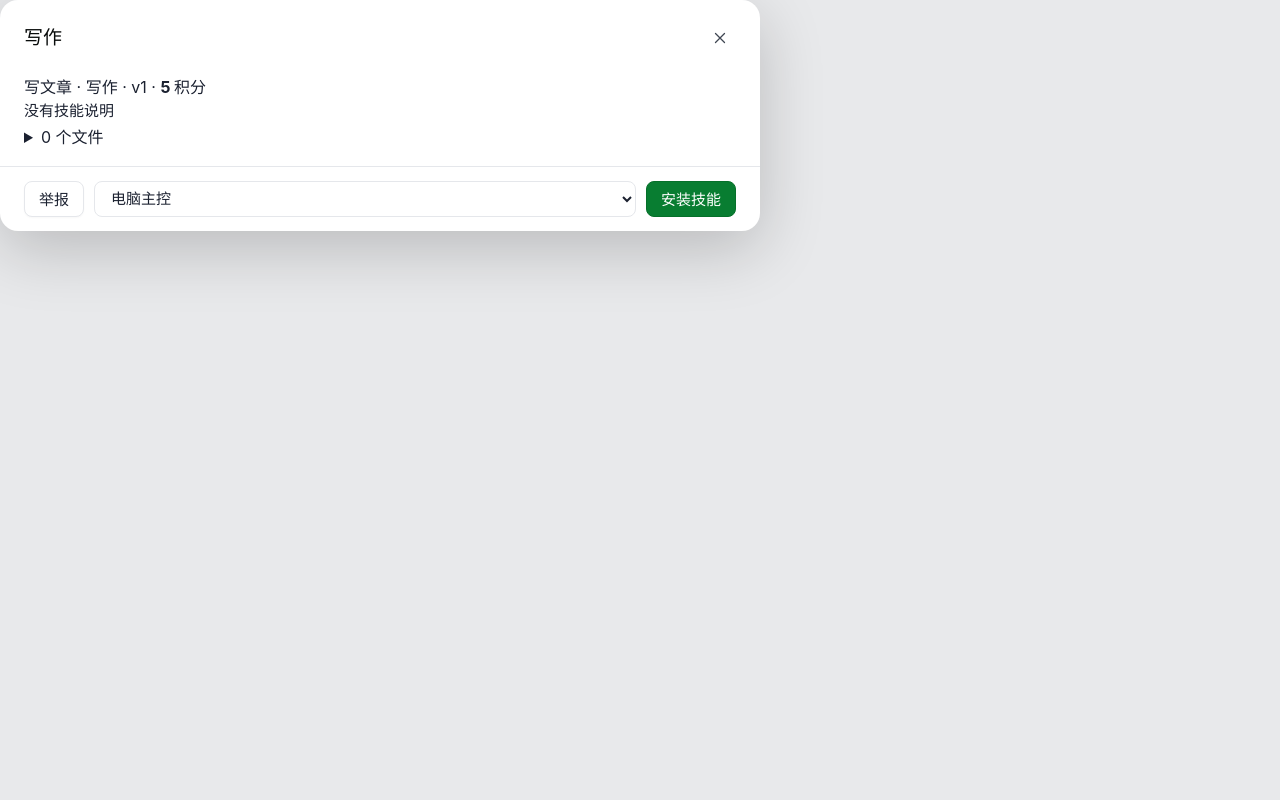
ST08 after the account switched the install dialog shows no charge toast and never installs
The image size is (1280, 800).
Click the button "安装技能" at (691, 198), box [646,180,736,216]
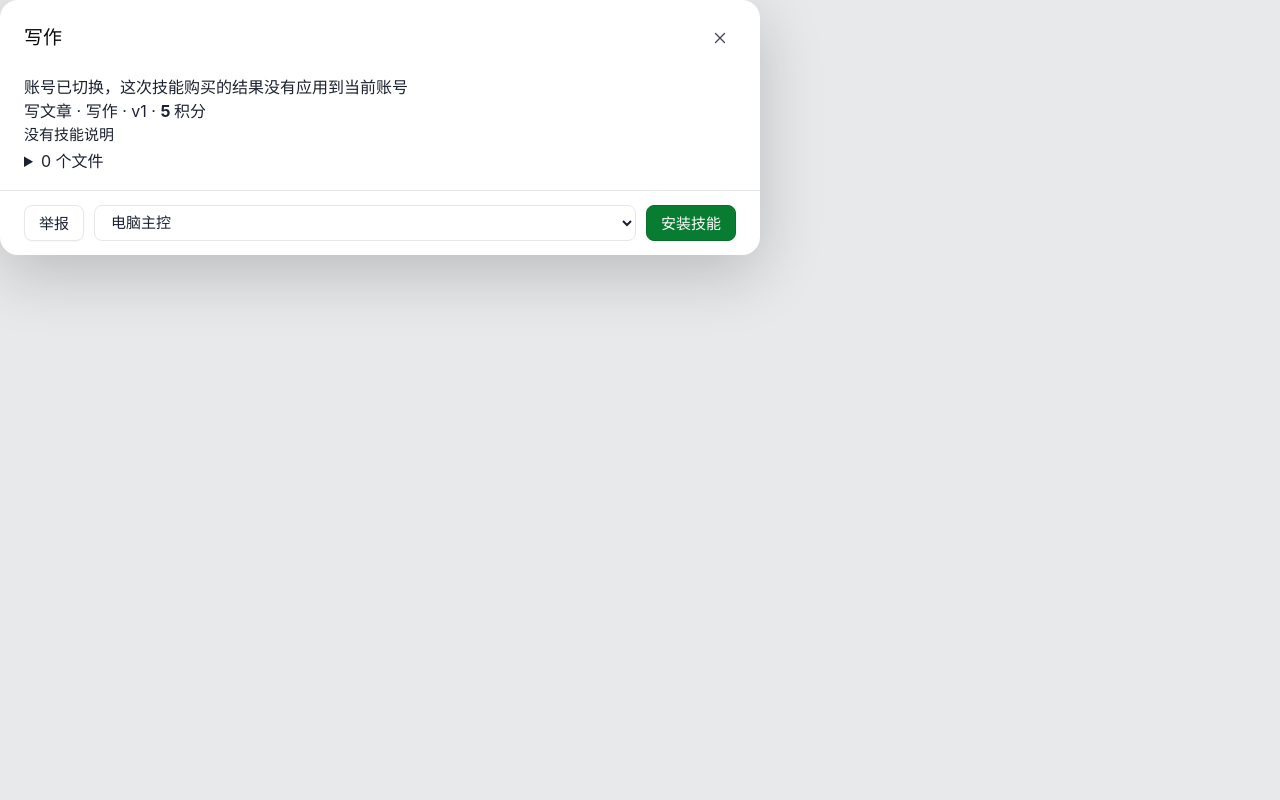
Check: the message "账号已切换，这次技能购买的结果没有应用到当前账号" is shown, box [24,77,408,97]
